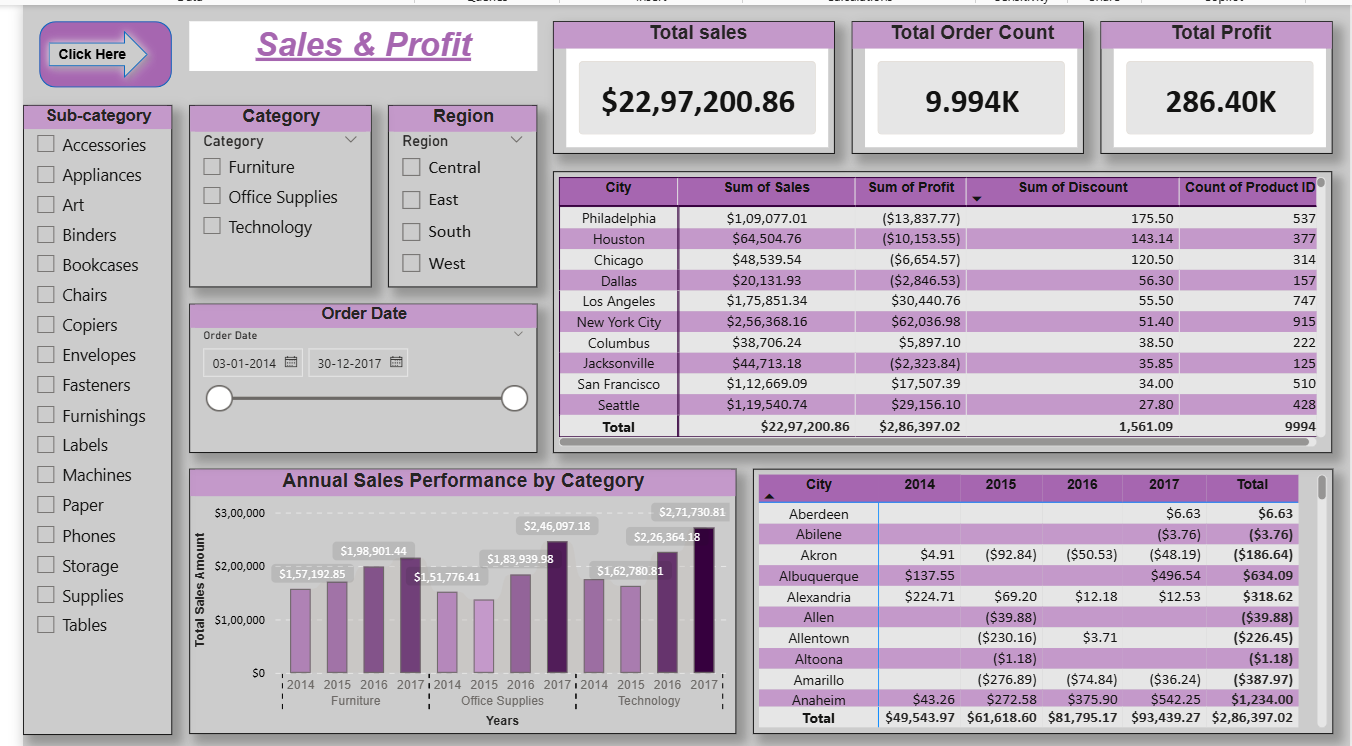

This screenshot's page, from the dashboard's own definition file:
{"tool":"powerbi","page":{"name":"Report 1","canvas":[1280,720],"ordinal":0},"visuals":[{"type":"shape","box":[16,16,128,64],"z":0,"group":"g1"},{"type":"columnChart","title":"Annual Sales Performance by Category","fields":{"Y":["Sum(Orders.Sales)"],"Category":["Orders.Category","Orders.Order Date.Variation.Date Hierarchy.Year"]},"box":[160,448,528,256],"z":0},{"type":"shape","box":[16,16,113.8,64],"z":1000,"group":"g1"},{"type":"pivotTable","title":"Annual Profit Performance","fields":{"Rows":["Orders.City"],"Values":["Sum(Orders.Profit)"],"Columns":["Orders.Order Date.Variation.Date Hierarchy.Year"]},"box":[704,448,560,256],"z":1000},{"type":"pivotTable","fields":{"Values":["Sum(Orders.Sales)","Sum(Orders.Profit)","Sum(Orders.Discount)","CountNonNull(Orders.Product ID)"],"Rows":["Orders.City"]},"box":[512,160,752,272],"z":2000},{"type":"slicer","title":"Region","fields":{"Values":["Orders.Region"]},"box":[352,96,144,176],"z":3000},{"type":"slicer","title":"Sub-category","fields":{"Values":["Orders.Sub-Category"]},"box":[0,96,144,608],"z":4000},{"type":"slicer","title":"Order Date","fields":{"Values":["Orders.Order Date"]},"box":[160,288,336,144],"z":5000},{"type":"slicer","title":"Category","fields":{"Values":["Orders.Category"]},"box":[160,96,176,176],"z":6000},{"type":"cardVisual","title":"Total sales","fields":{"Data":["Sum(Orders.Sales)"]},"box":[512,16,272,128],"z":7000},{"type":"cardVisual","title":"Total Profit","fields":{"Data":["Sum(Orders.Profit)"]},"box":[1040,16,224,128],"z":8000},{"type":"cardVisual","title":"Total Order Count","fields":{"Data":["CountNonNull(Orders.Order ID)"]},"box":[800,16,224,128],"z":9000},{"type":"group","id":"g1","title":"Group 1","box":[16,16,128,64],"z":10000},{"type":"textbox","box":[160,16,336,48],"z":11000}]}

Visuals, with their boxes on the page's 1280x720 design canvas (x1, y1, x2, y2). These are canvas units, not pixel positions in the 1352x746 screenshot, which may show the page scaled, cropped or inside an application window:
shape: (x1=16, y1=16, x2=144, y2=80)
"Annual Sales Performance by Category" columnChart: (x1=160, y1=448, x2=688, y2=704)
shape: (x1=16, y1=16, x2=130, y2=80)
"Annual Profit Performance" pivotTable: (x1=704, y1=448, x2=1264, y2=704)
pivotTable - Sum(Orders.Sales) x Sum(Orders.Profit): (x1=512, y1=160, x2=1264, y2=432)
"Region" slicer: (x1=352, y1=96, x2=496, y2=272)
"Sub-category" slicer: (x1=0, y1=96, x2=144, y2=704)
"Order Date" slicer: (x1=160, y1=288, x2=496, y2=432)
"Category" slicer: (x1=160, y1=96, x2=336, y2=272)
"Total sales" cardVisual: (x1=512, y1=16, x2=784, y2=144)
"Total Profit" cardVisual: (x1=1040, y1=16, x2=1264, y2=144)
"Total Order Count" cardVisual: (x1=800, y1=16, x2=1024, y2=144)
"Group 1" group: (x1=16, y1=16, x2=144, y2=80)
textbox: (x1=160, y1=16, x2=496, y2=64)
